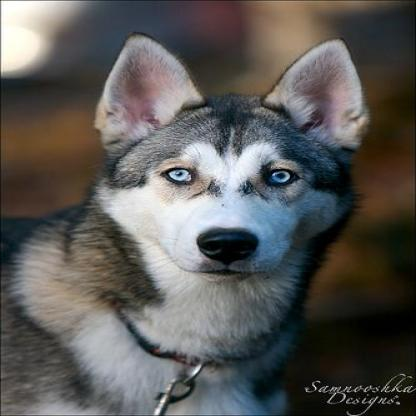Eskimo_dog: (0, 34, 369, 414)
